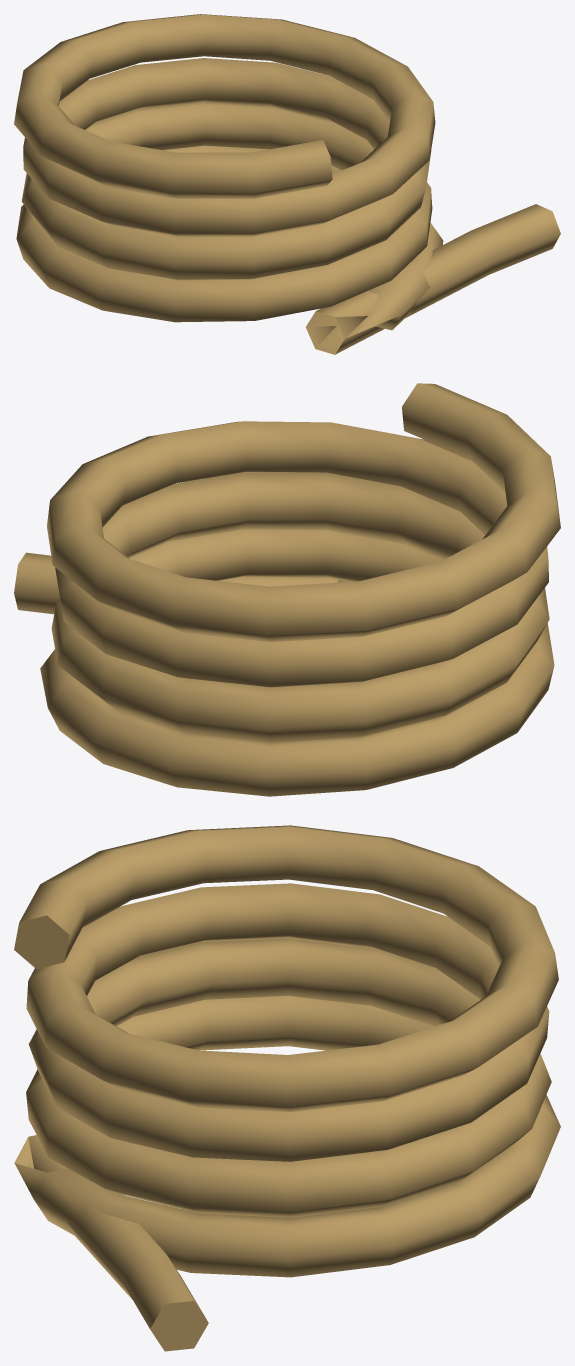
File: rope-coil-pixor.glb
3 views of the same model, one above another, from view 1: azimuth 30°, elevation 25°; view 2: azimuth 150°, elevation 25°; view 3: azimuth 270°, elevation 25° (orthographic). The views are drawn at different scales.
Visible parts, largest first — view 1: Rope coil; view 2: Rope coil; view 3: Rope coil.
Part boxes in pixels (x1,y1,x2,y2): Rope coil: (14,14,560,354); Rope coil: (14,383,560,796); Rope coil: (14,825,560,1351).
Bounding box in the file's own units: 0.4935 × 0.2133 × 0.3974.
